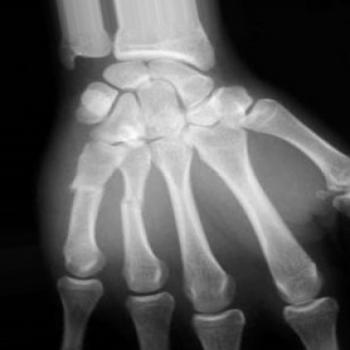Fracture: (64, 182, 114, 205), (115, 190, 148, 212)
